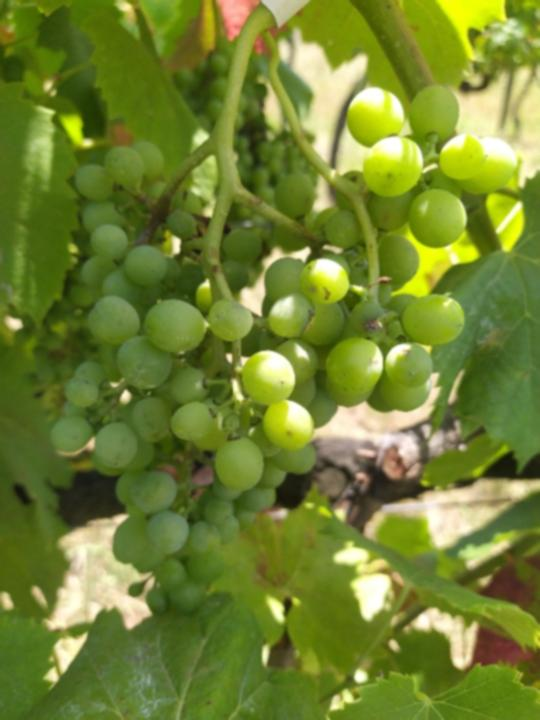grape: (44, 77, 520, 620)
